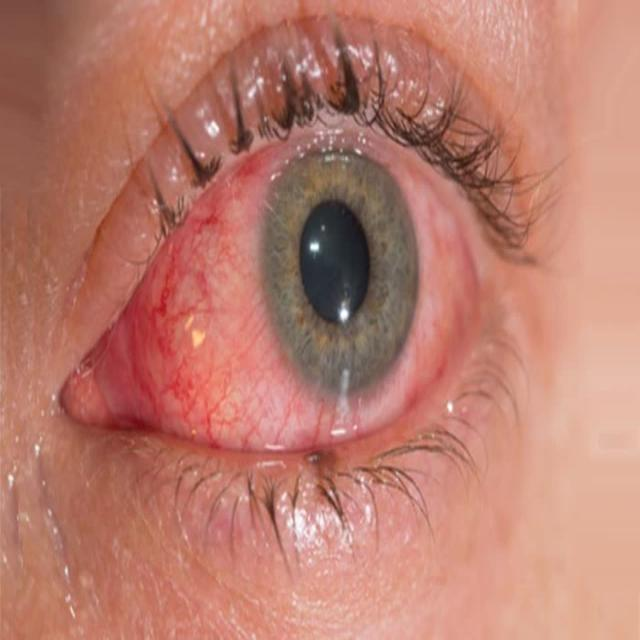Conjunctivitis: (66, 148, 480, 447)
